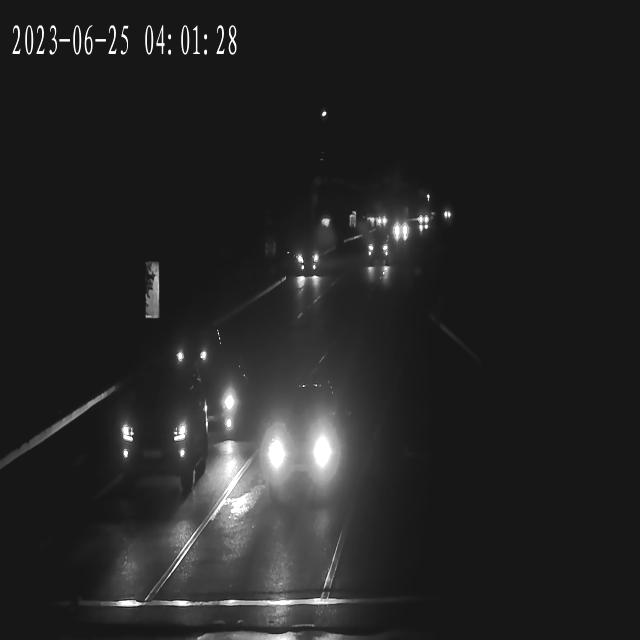Car: (110, 380, 209, 480), (258, 390, 348, 493), (176, 364, 247, 443), (168, 322, 221, 371), (291, 240, 319, 272), (292, 246, 319, 279), (364, 232, 389, 264), (366, 212, 388, 230), (388, 223, 408, 242), (388, 221, 408, 238), (392, 220, 412, 237), (414, 213, 432, 228)
